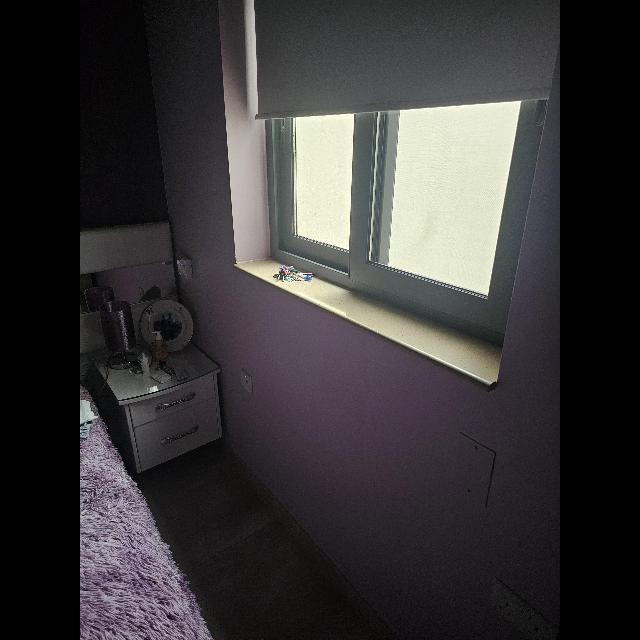Keys: (275, 266, 315, 284)
